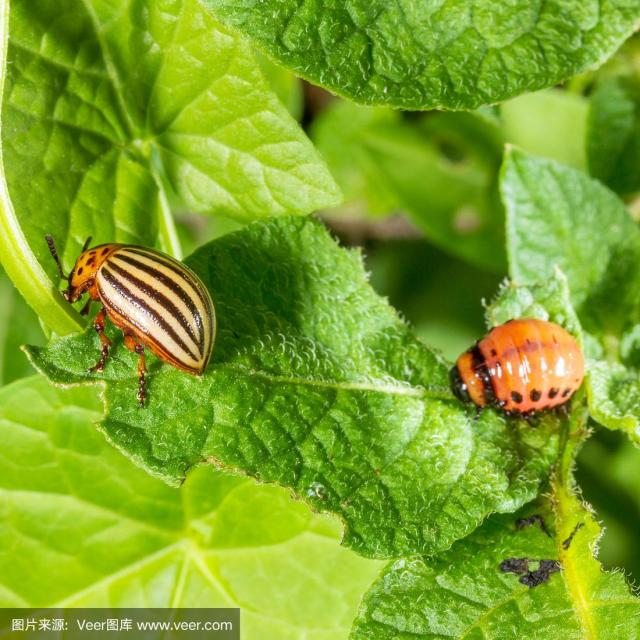ShuCaiHuaBanChong-Grown-: (38, 219, 217, 388)
ShuCaiHuaBanChong-Larva-: (443, 308, 588, 410)
